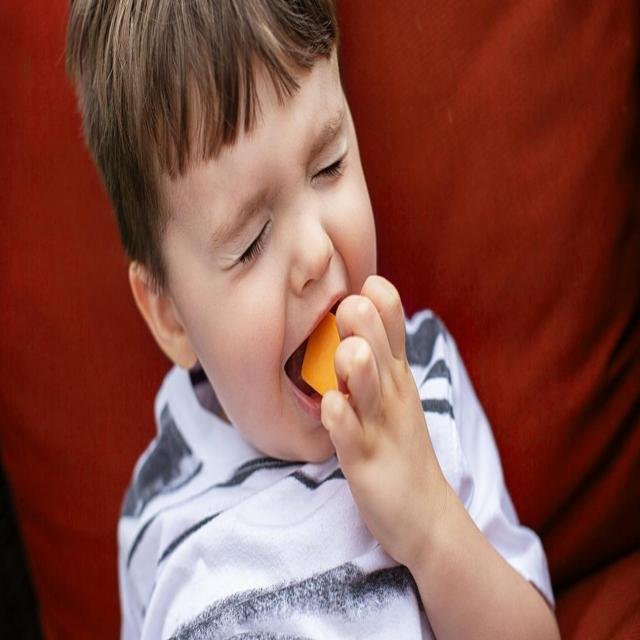child: (64, 2, 569, 640)
